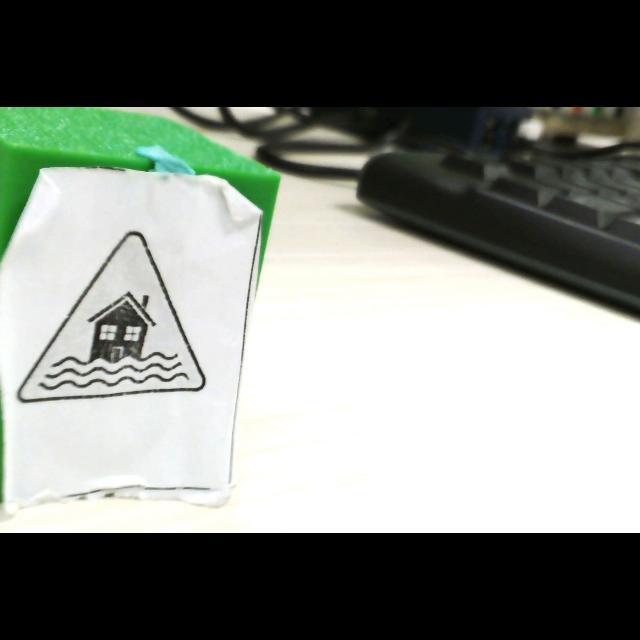Tsunami: (16, 232, 205, 403)
